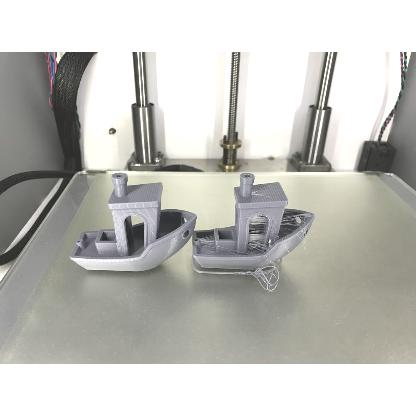fail: (251, 264, 280, 292), (249, 228, 265, 246), (282, 214, 296, 228), (251, 215, 267, 225), (203, 235, 215, 248)
